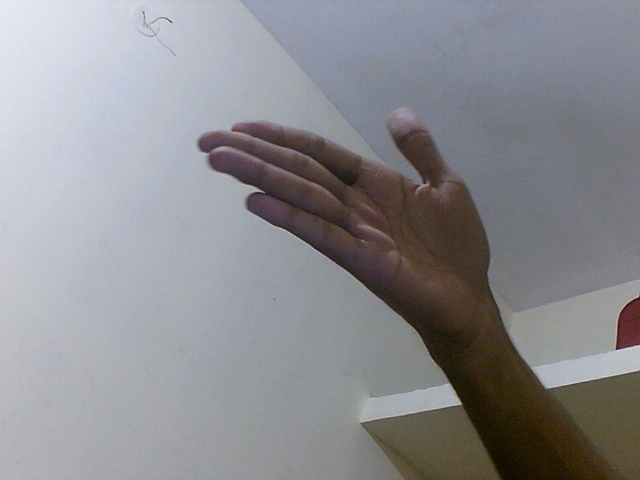hand: (192, 108, 493, 354)
